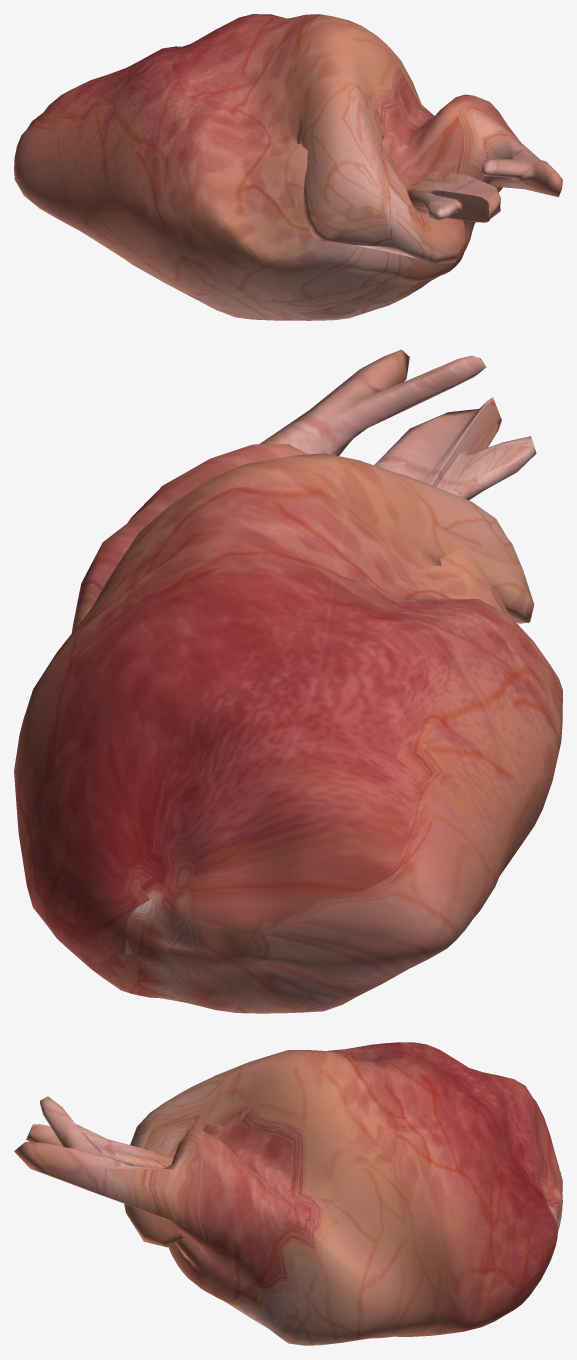
File: HerzModell.fbx
The picture shows the model from 3 angles, top to bottom: view 1: azimuth 30°, elevation 25°; view 2: azimuth 150°, elevation 25°; view 3: azimuth 270°, elevation 25°; orthographic projection. The views are drawn at different scales.
Parts seen in each view (by area): view 1: pSphere2; view 2: pSphere2; view 3: pSphere2.
Part boxes in pixels (bbox=[...]): pSphere2: bbox=[14, 14, 562, 320]; pSphere2: bbox=[14, 349, 562, 1013]; pSphere2: bbox=[14, 1042, 562, 1345].
Size of the model in its own units: 4.43 by 3.64 by 6.35.
Materials: 1 (1 with a texture image).
